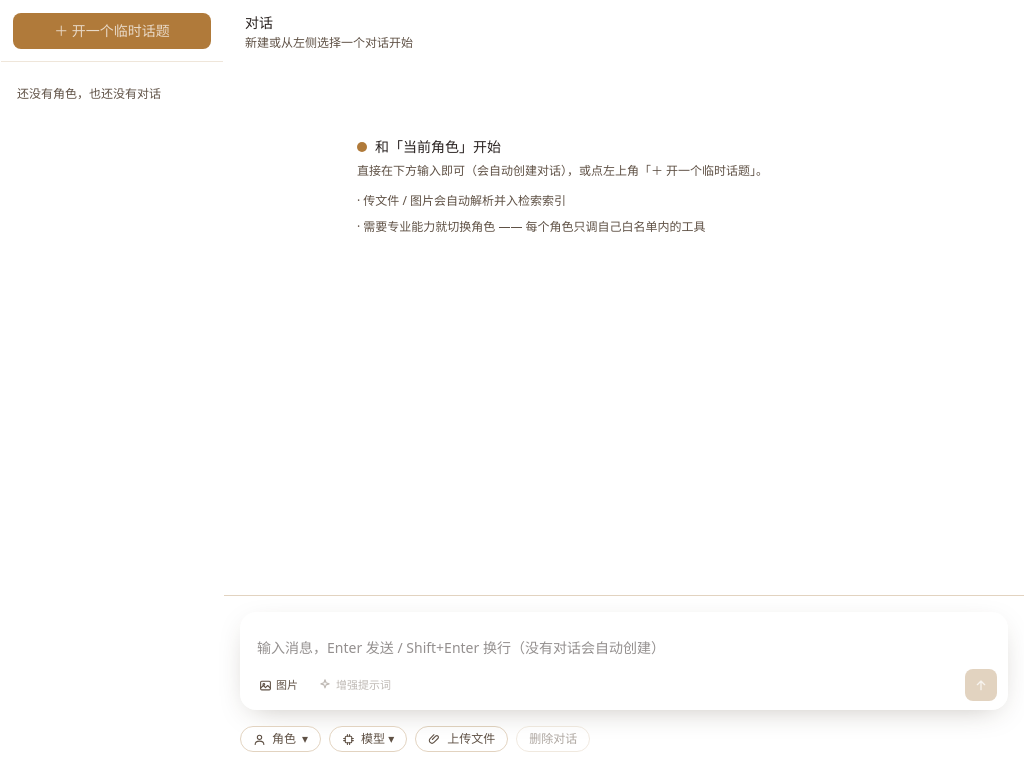
Test case: ChatPage 流式渲染 › 正常收尾的回答不显示『被叫停』（不冤枉一句完整的话）
The width and height of the screenshot is (1024, 768).
Step 1. Type "问" into the text box with placeholder "输入消息，Enter 发送 / Shift+Enter 换行（没有对话会自动创建）" → [624, 644], box [241,625,1007,664]
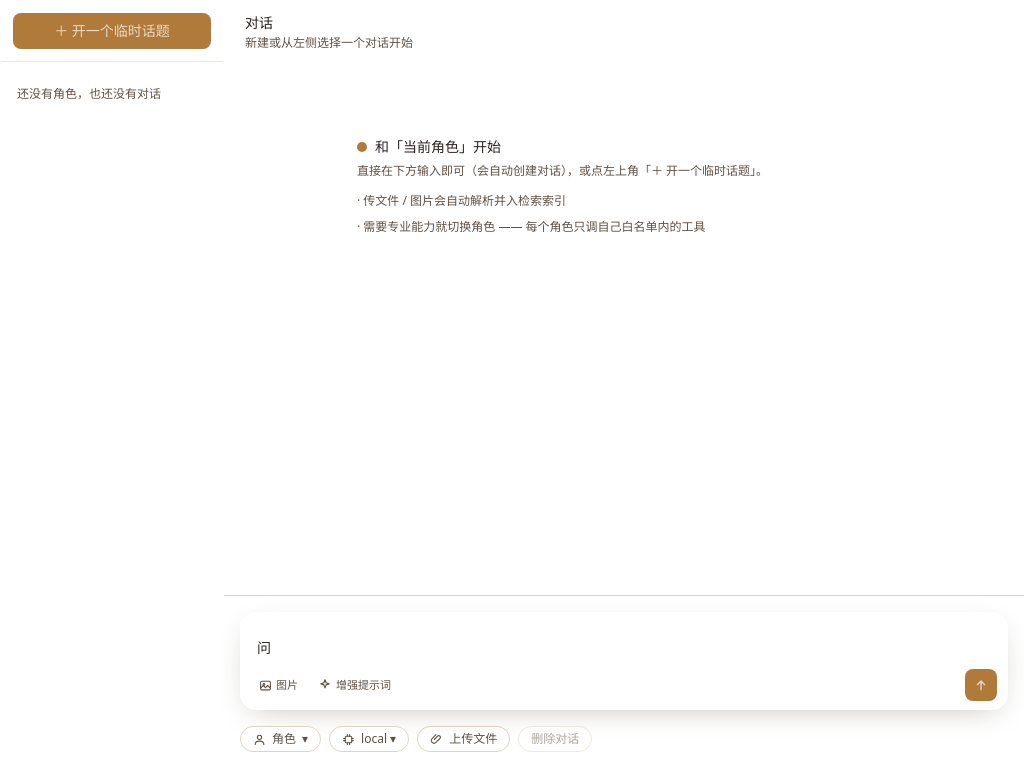
Step 2. Click the button named "发送" → [981, 685], box [965,669,997,701]
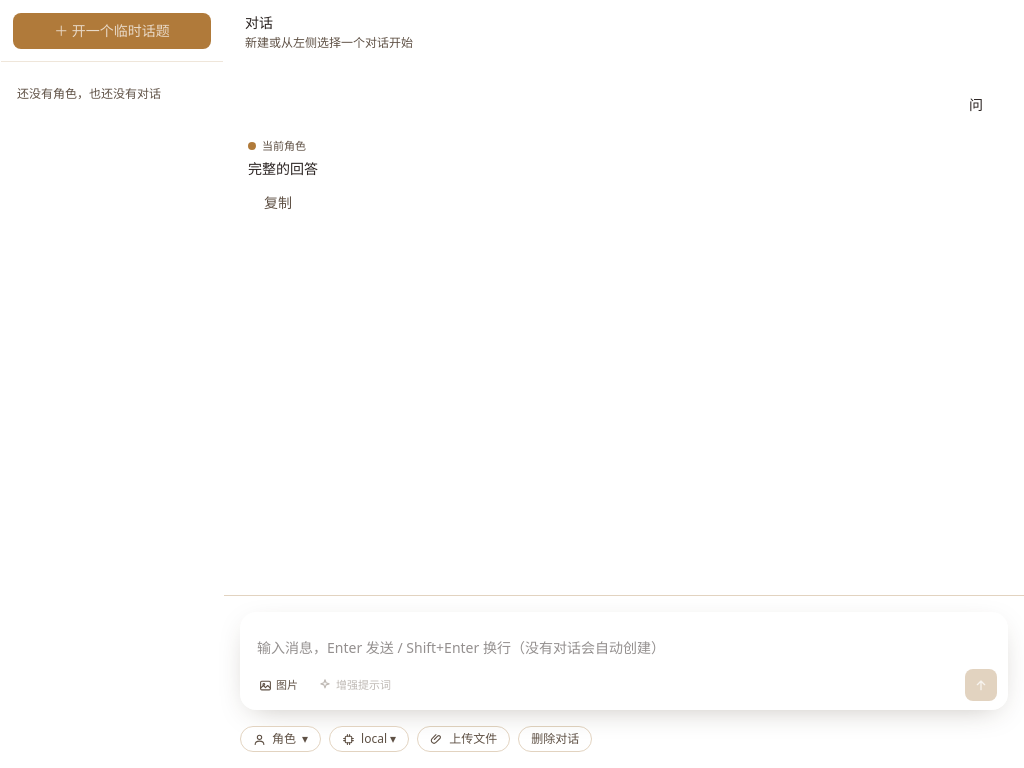
Now the text "完整的回答" is shown, box [248,159,318,178]
